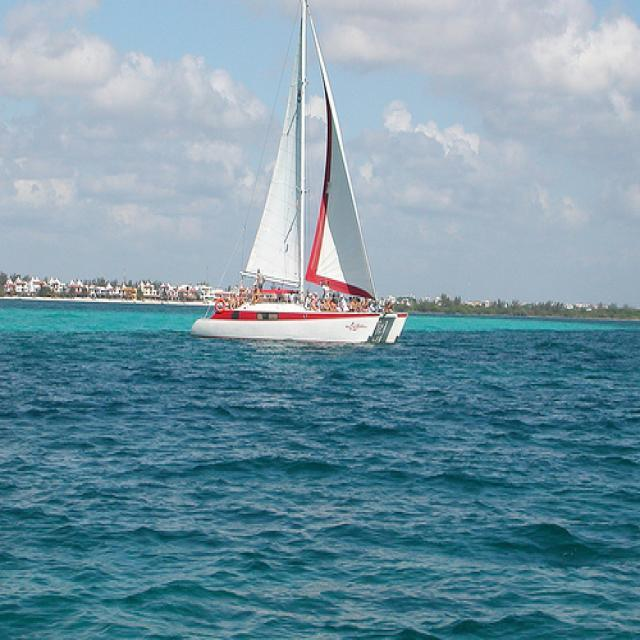Ship: (198, 6, 412, 349)
